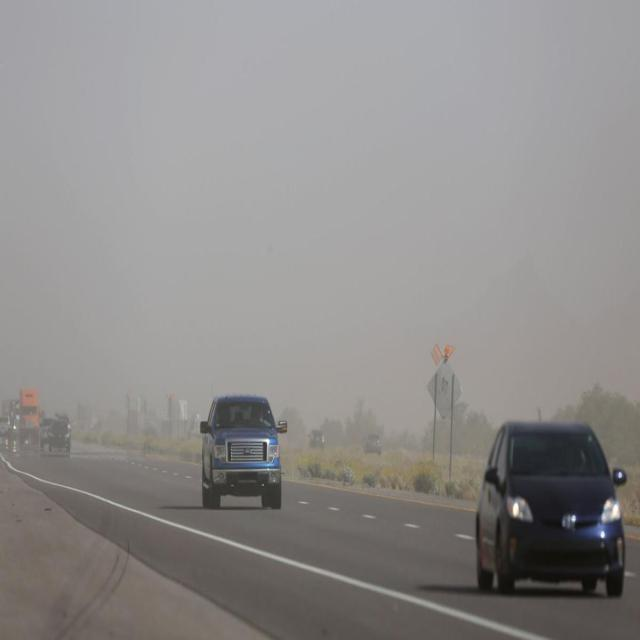Car: (469, 392, 632, 605), (198, 366, 292, 526), (364, 411, 394, 459), (307, 403, 326, 464), (47, 420, 70, 452), (40, 412, 54, 451), (1, 410, 9, 440)
Truck: (18, 381, 39, 449)
